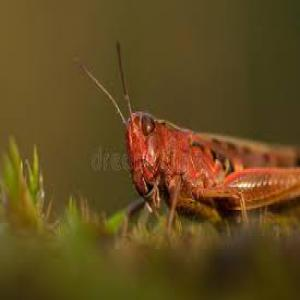locust: (108, 73, 300, 244)
